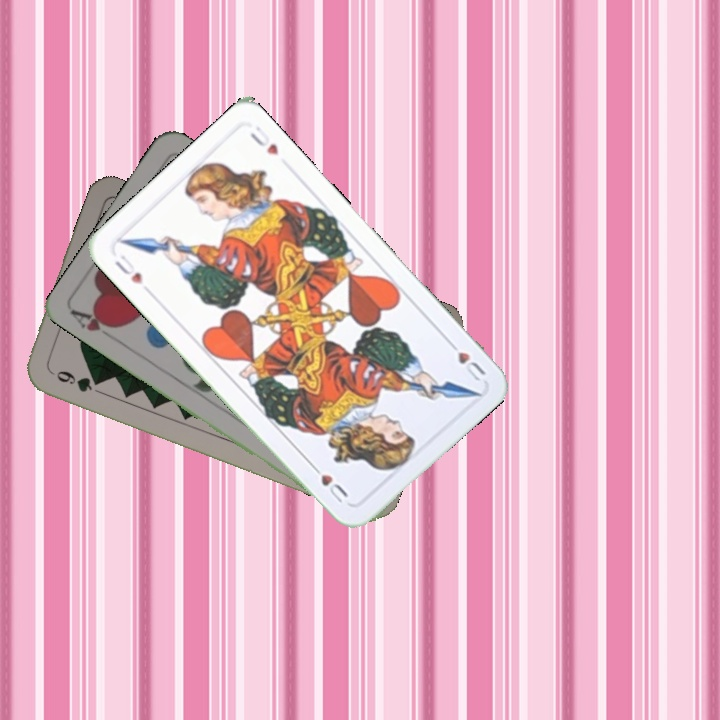G9: (52, 366, 105, 395)
HA: (67, 305, 121, 345)
HU: (443, 335, 488, 384), (111, 250, 145, 287)
